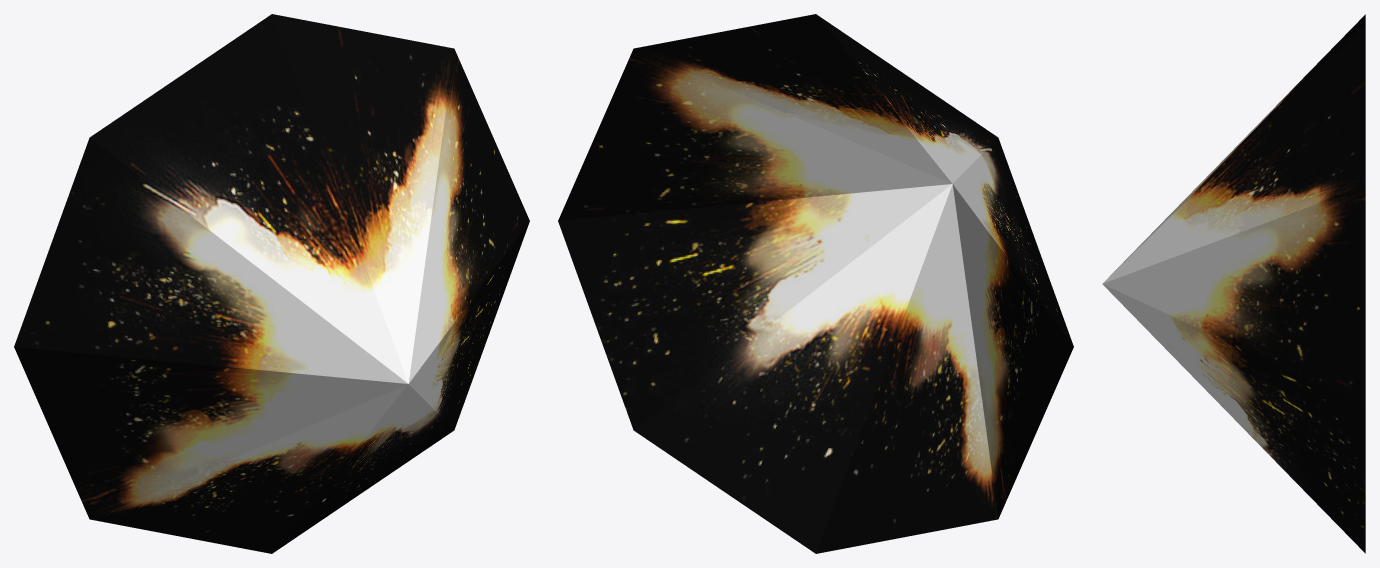
File: muzzle.glb
The picture shows the model from 3 angles, left to right: view 1: azimuth 30°, elevation 25°; view 2: azimuth 150°, elevation 25°; view 3: azimuth 270°, elevation 25°; orthographic projection. The views are drawn at different scales.
Parts seen in each view (by area): view 1: muzzlemesh; view 2: muzzlemesh; view 3: muzzlemesh.
Part boxes in pixels (<box>): muzzlemesh: <box>14,14,529,553</box>; muzzlemesh: <box>558,14,1073,553</box>; muzzlemesh: <box>1102,14,1365,553</box>.
Bounding box in the file's own units: 2.18 × 2.18 × 1.
Materials: 2 (2 with a texture image).
